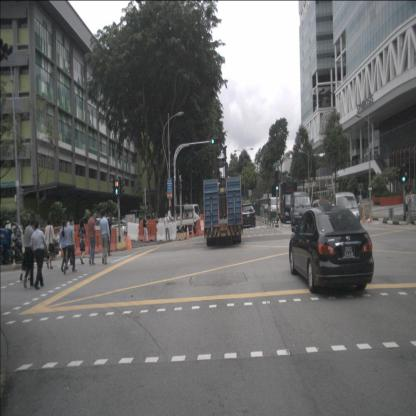barrier: (60, 233, 91, 258), (90, 228, 118, 254), (156, 222, 178, 242), (138, 223, 158, 242), (140, 218, 157, 236), (125, 222, 140, 242), (196, 219, 206, 237)
cone: (126, 234, 134, 250), (367, 210, 372, 224), (362, 210, 367, 224), (126, 235, 131, 249), (125, 234, 129, 249), (186, 225, 190, 240), (191, 225, 195, 238), (124, 233, 127, 248)
